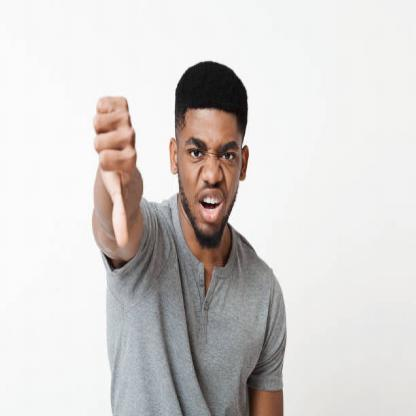thumb_down: (86, 92, 148, 250)
